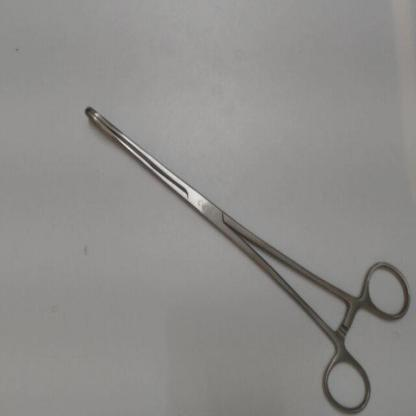Sponge Forceps: (74, 99, 414, 414)
